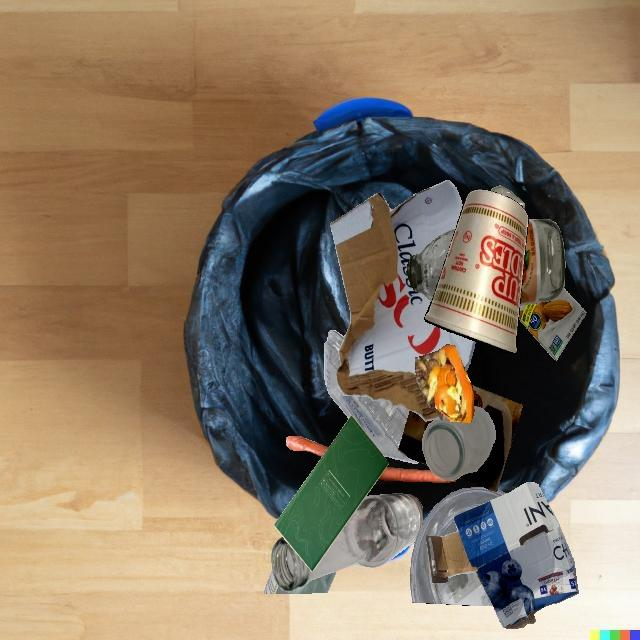biowaste: (415, 344, 474, 422), (378, 467, 455, 483), (286, 436, 329, 456)
cardboard: (330, 180, 476, 421), (425, 482, 578, 629), (459, 385, 523, 492), (518, 288, 586, 360), (398, 410, 434, 465)
glass: (271, 493, 423, 592), (422, 406, 495, 479), (520, 219, 565, 305), (407, 229, 455, 301), (264, 569, 337, 594), (491, 185, 525, 210)
paper: (274, 416, 389, 571)
plastic: (324, 330, 419, 464), (410, 487, 506, 606)
trash: (424, 189, 528, 353)
